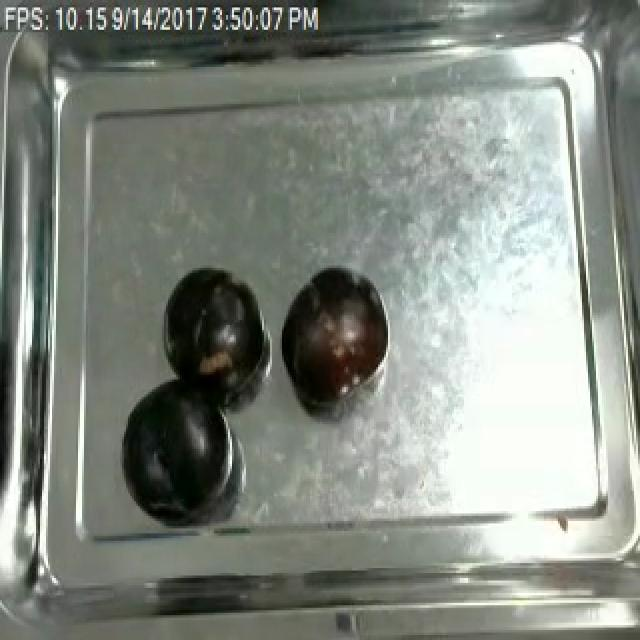Fruit: (118, 370, 234, 521), (278, 263, 394, 412), (160, 265, 260, 392)
